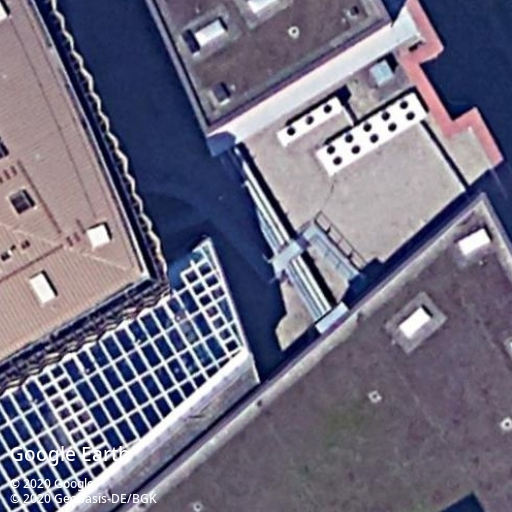Chiller: (316, 92, 428, 176), (277, 95, 343, 147)
